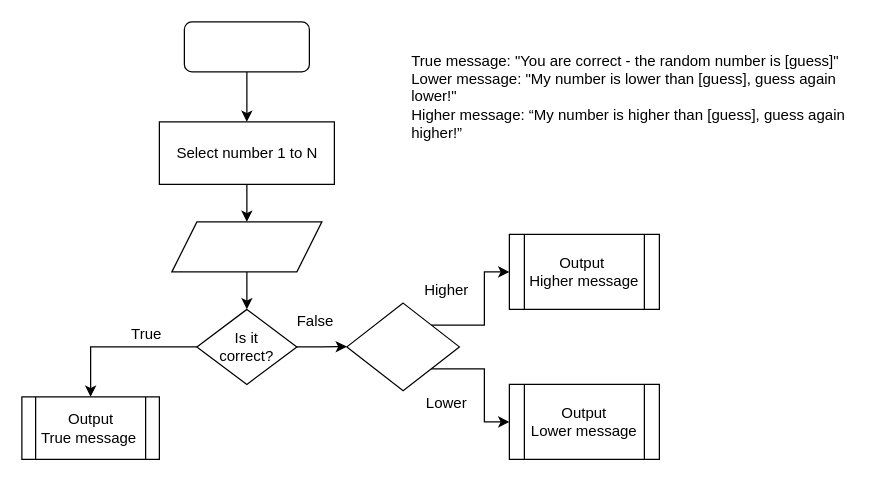
Some shapes in this 894 by 481 pixel diagram are drawn without their labels. Here are the shapes that lost their labels. From the top down, the centre of each, then its label:
point 246,46: Start
point 246,246: Input guess
point 402,346: Is it higher or lower
